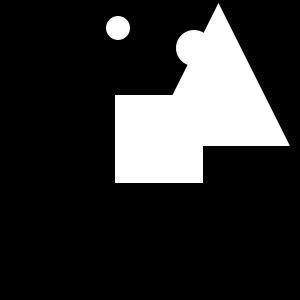circle: (115, 95, 203, 183)
rectangle: (176, 30, 212, 66), (106, 16, 130, 40)
triangle: (147, 3, 290, 146)
